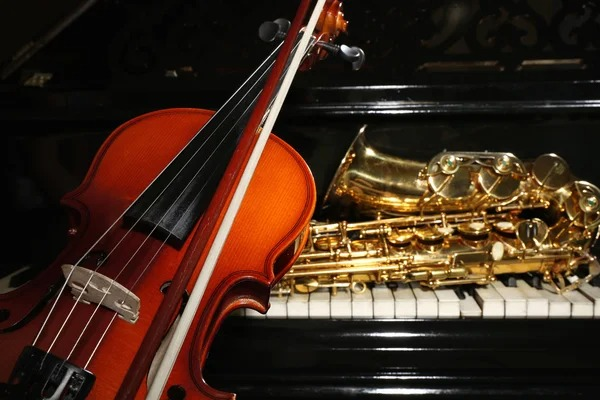Piano: (228, 246, 600, 382)
Saxophone: (291, 104, 600, 296)
Violin: (6, 6, 339, 394)
